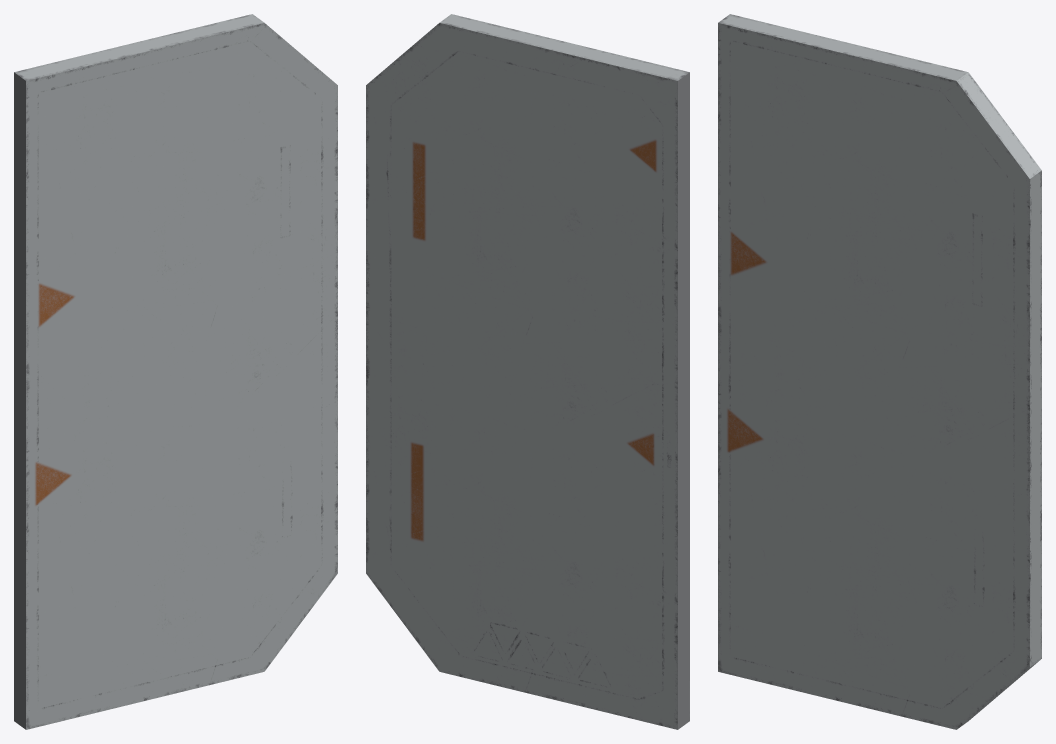
The model's file is Door.dae.
3 renders of one model, left to right at view 1: azimuth 30°, elevation 25°; view 2: azimuth 150°, elevation 25°; view 3: azimuth 330°, elevation 25°, orthographic.
Parts seen in each view (by area): view 1: Door; view 2: Door; view 3: Door.
Part boxes in pixels (x1=…): Door: x1=14, y1=14, x2=337, y2=729; Door: x1=366, y1=14, x2=689, y2=729; Door: x1=718, y1=14, x2=1041, y2=729.
Size of the model in its own units: 2.17 by 0.145 by 4.32.
1 material, 1 textured.
